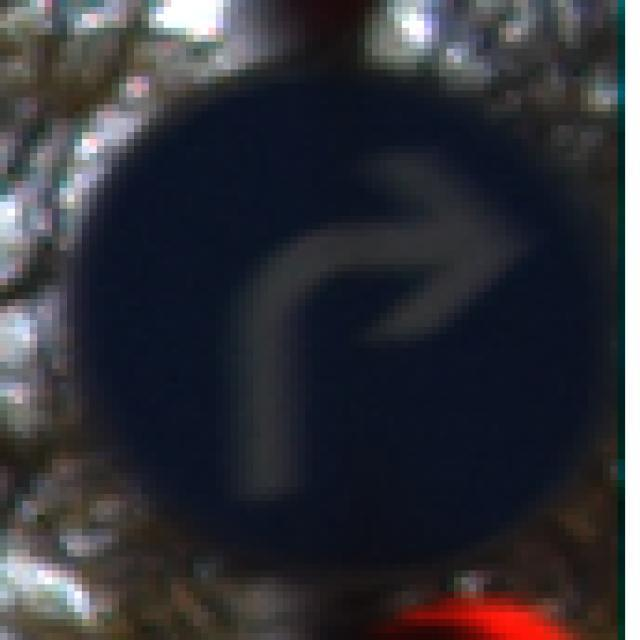compulsary turn right ahead: (64, 53, 593, 580)
